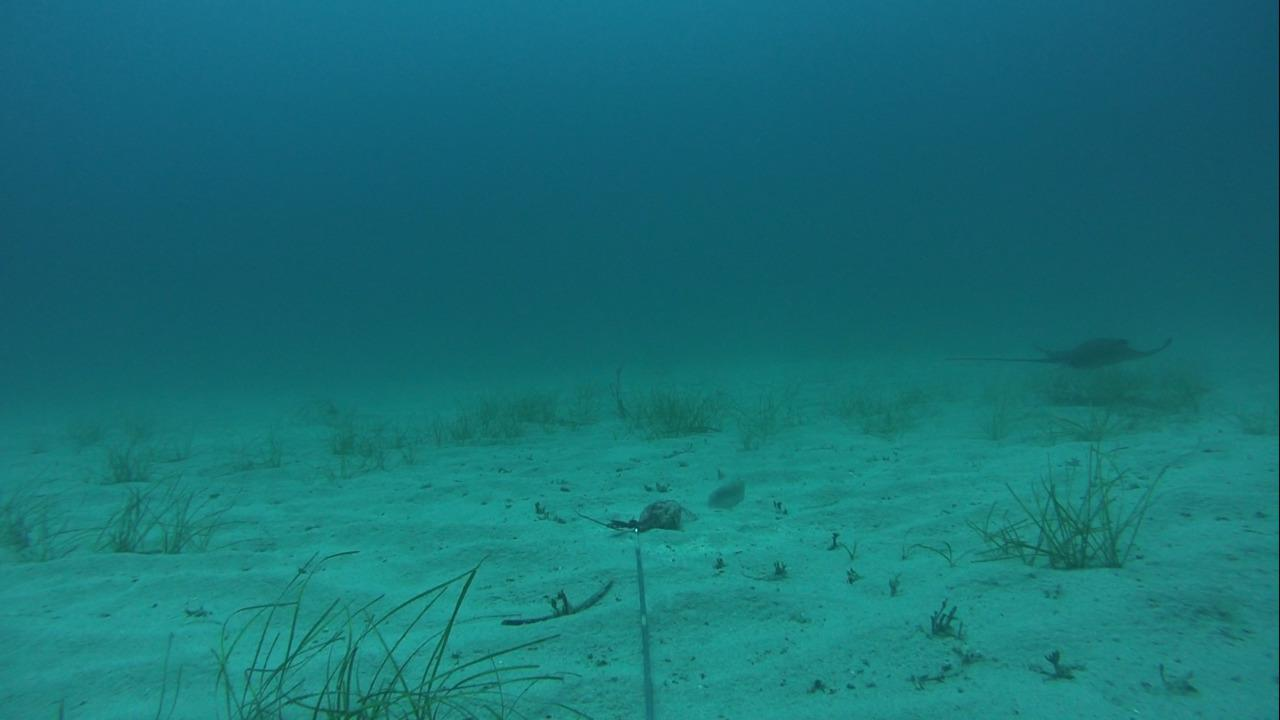myliobatis: (948, 323, 1175, 375)
raor: (697, 473, 757, 517)
